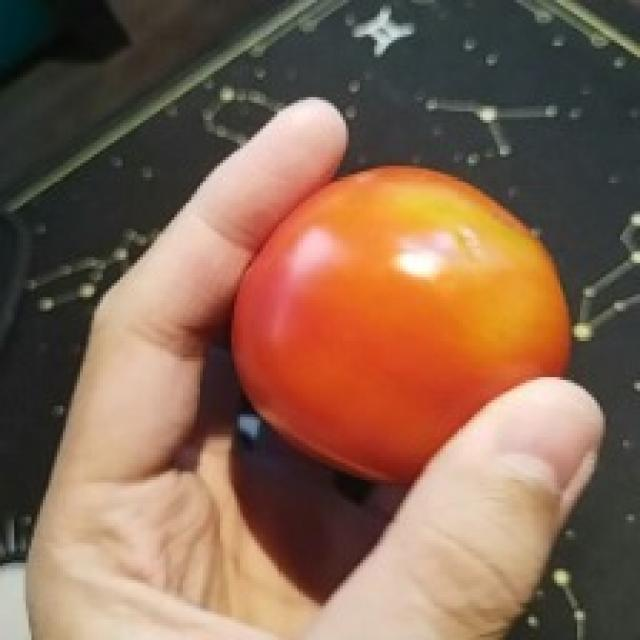Fresh Tomato: (202, 149, 588, 512)
